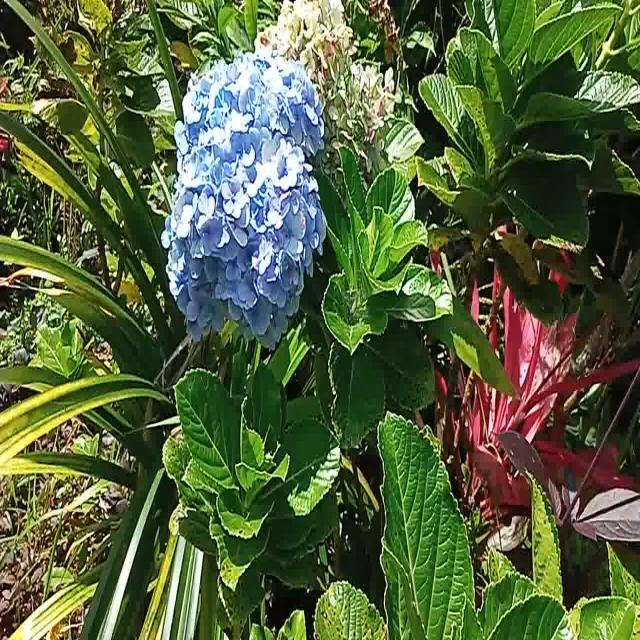Flower: (167, 52, 323, 344)
